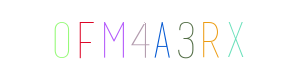0: (42, 0, 122, 80)
3: (122, 0, 202, 80)
4: (109, 0, 189, 80)
A: (109, 0, 189, 80)
F: (74, 0, 154, 80)
M: (103, 0, 183, 80)
R: (148, 0, 228, 80)
X: (169, 0, 249, 80)
